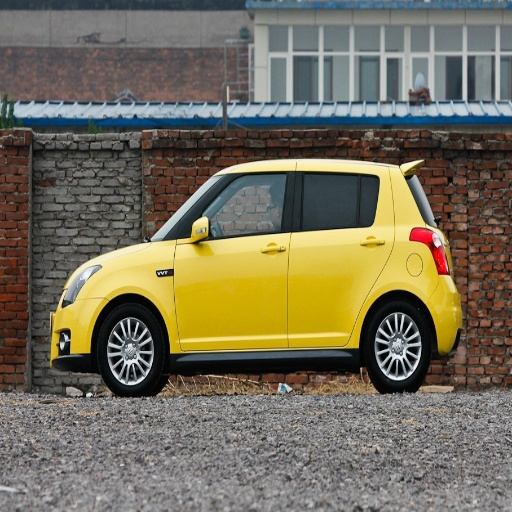back_left_door: (288, 169, 392, 345)
front_left_door: (175, 168, 295, 347)
